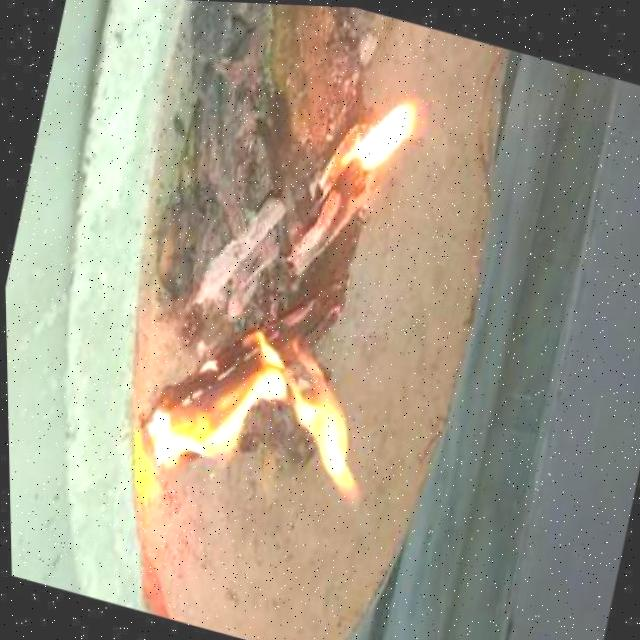fire: (135, 300, 388, 516), (323, 82, 449, 208)
